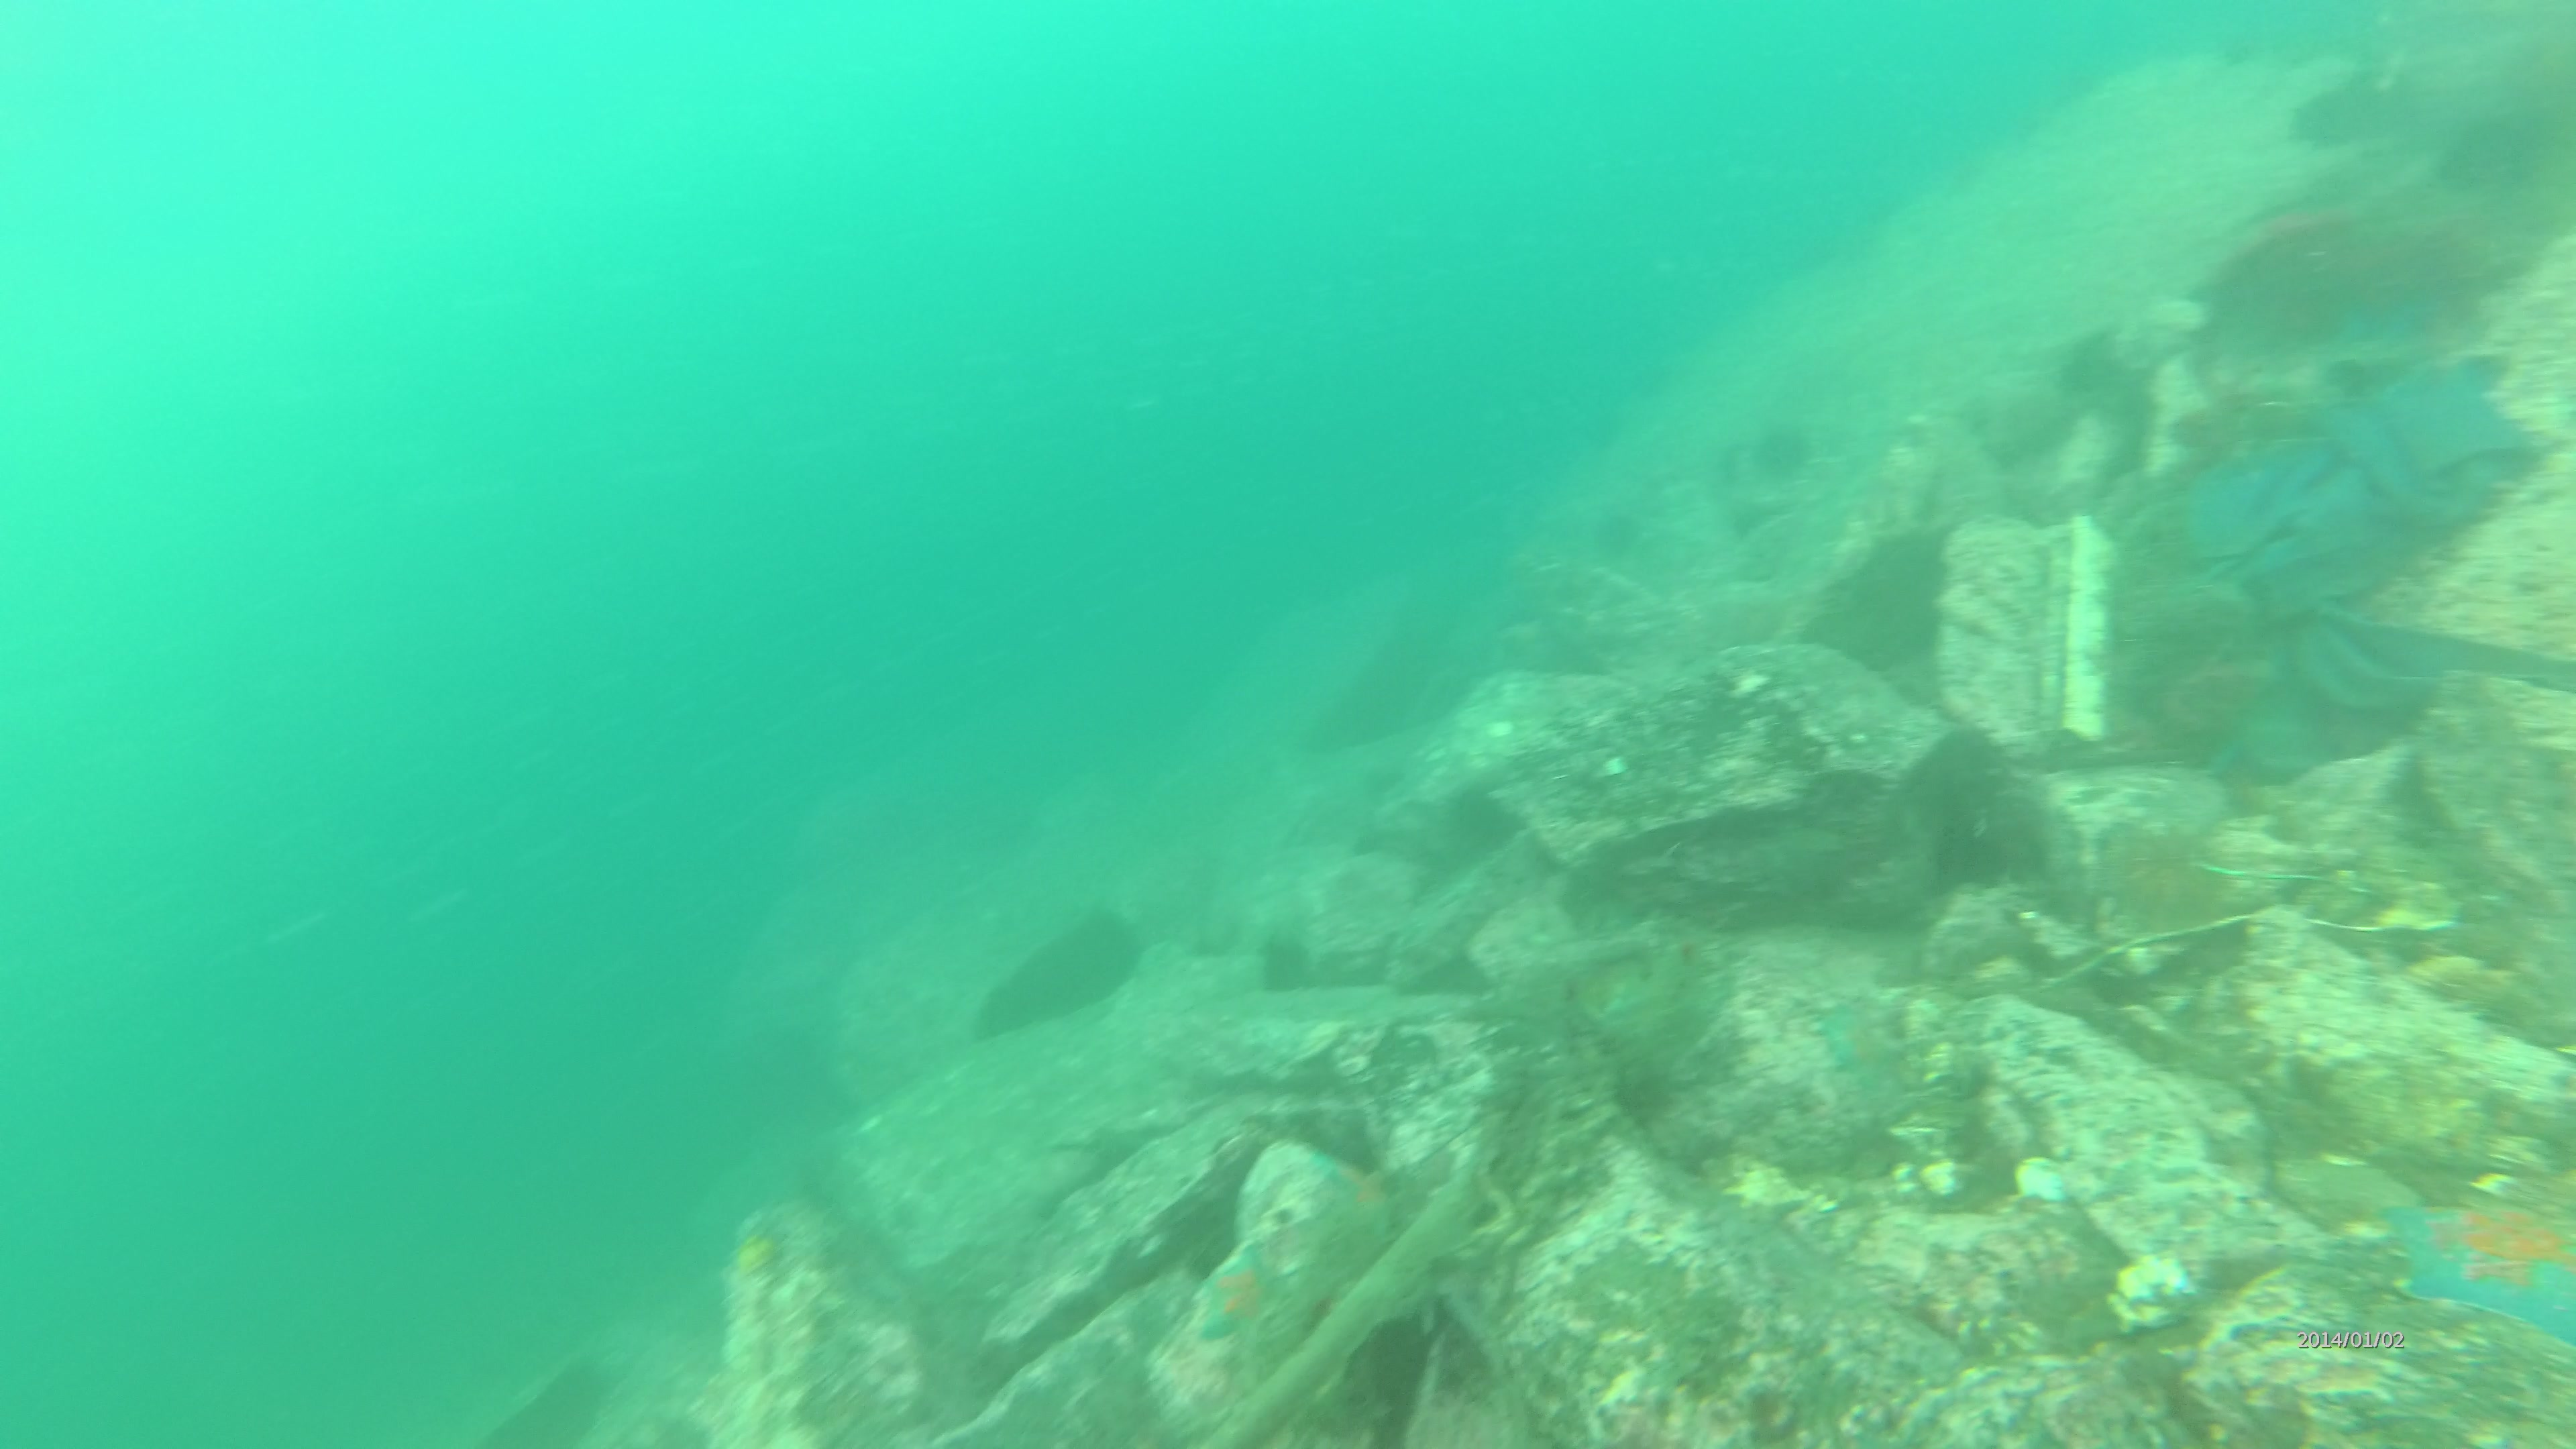echinus: (2120, 823, 2226, 932)
starfish: (2371, 1196, 2576, 1345), (1192, 1254, 1297, 1332), (1318, 1143, 1394, 1228)
